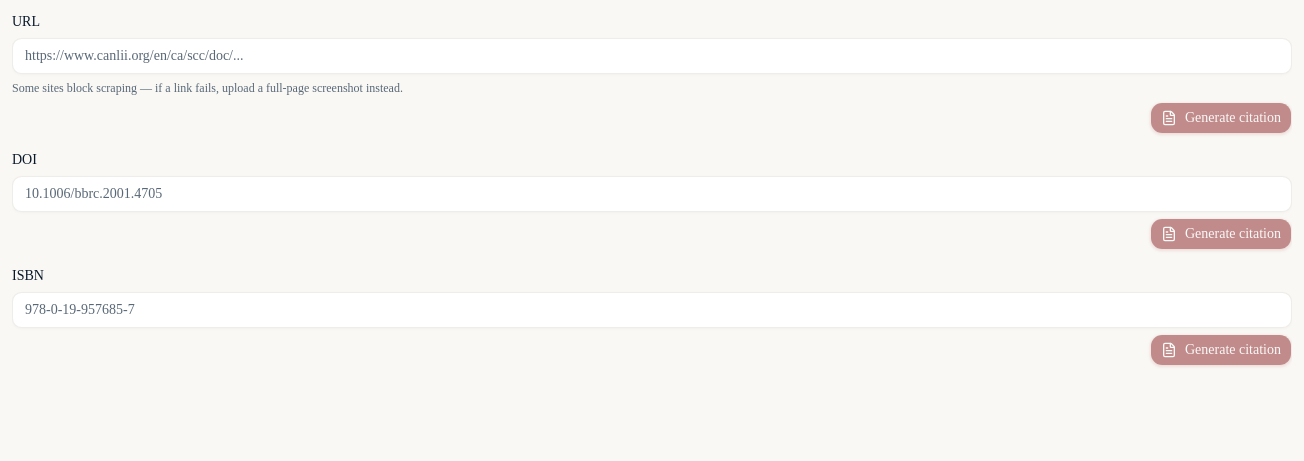
Test: Tab 3 — independent per-source buttons › unsupported response renders failure message
Type "https://example.com" into the field labelled "URL" at (652, 56), box x1=12 y1=38 x2=1292 y2=74
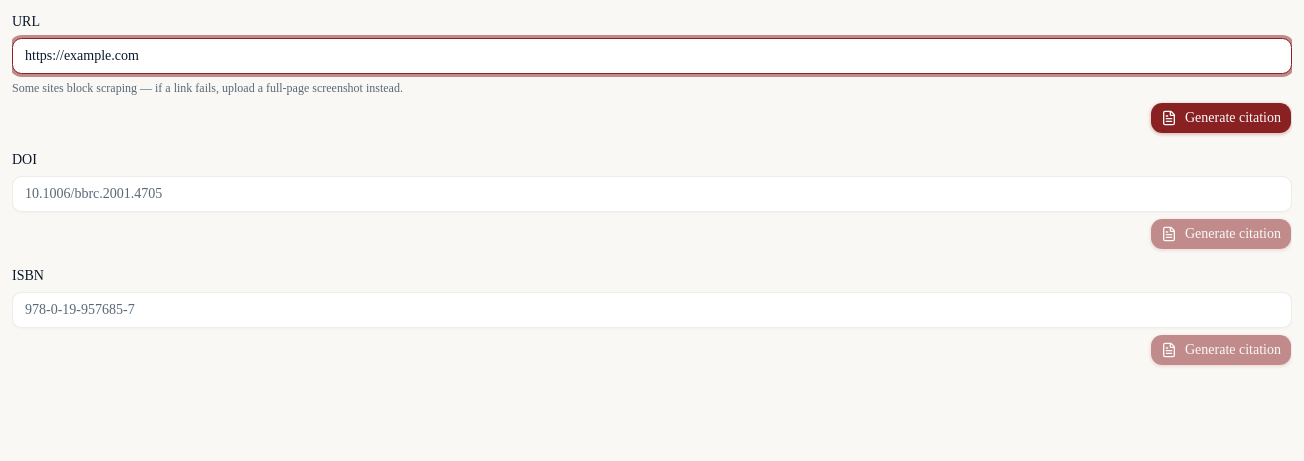
Click the 1st button "Generate citation" at (1221, 118), box x1=1150 y1=102 x2=1292 y2=134
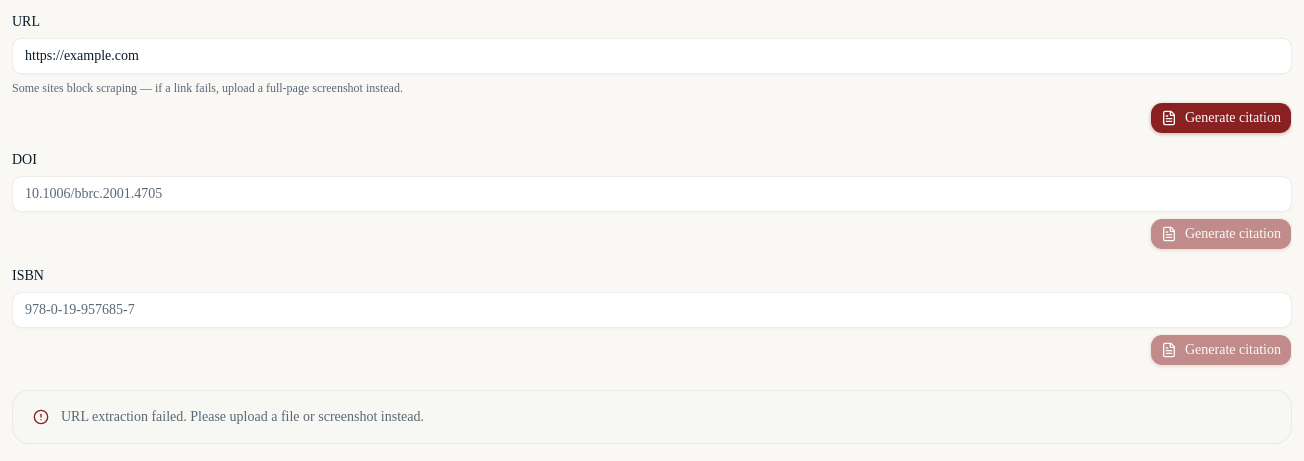
Now the text "URL extraction failed" is shown, box x1=61 y1=409 x2=424 y2=424
